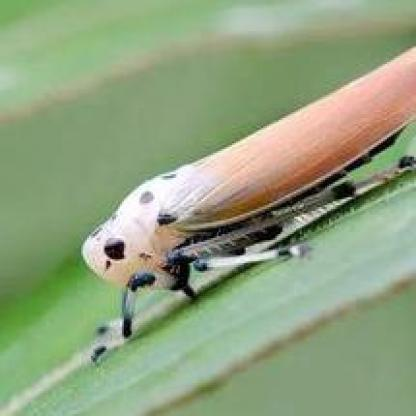grasshopper: (50, 25, 414, 361)
